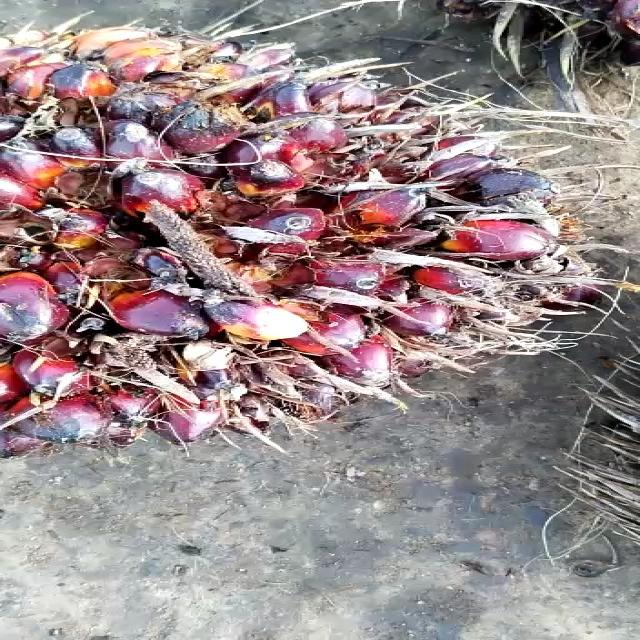palm oil: (6, 0, 635, 456)
